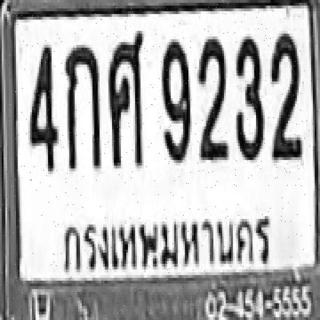A01: (64, 42, 100, 168)
A38: (107, 31, 144, 166)
N02: (270, 31, 302, 160), (196, 36, 226, 160)
N03: (235, 34, 263, 160)
N04: (29, 42, 57, 171)
N09: (160, 36, 190, 160)
P04: (58, 208, 280, 283)
